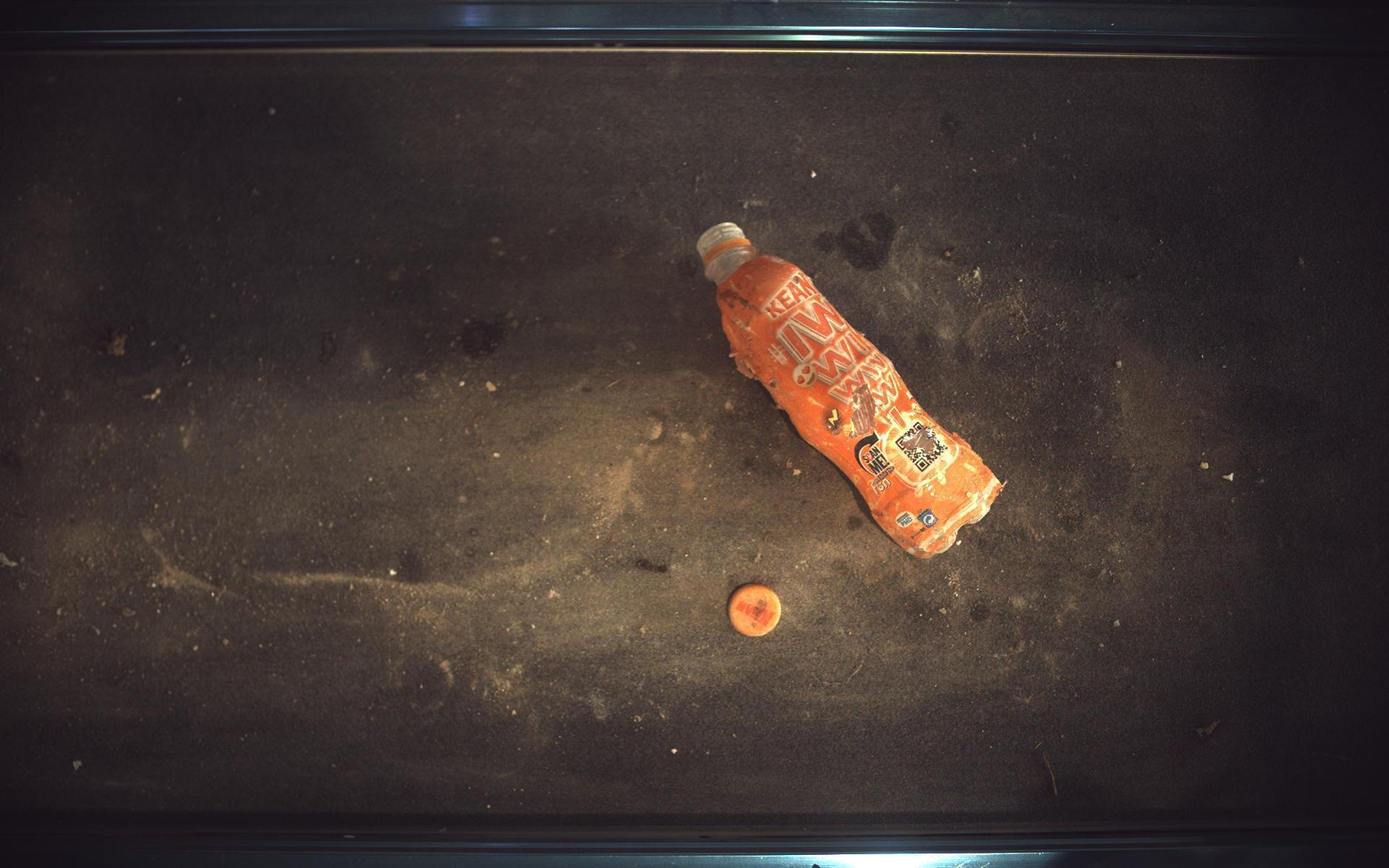general_w: (698, 221, 1004, 558)
